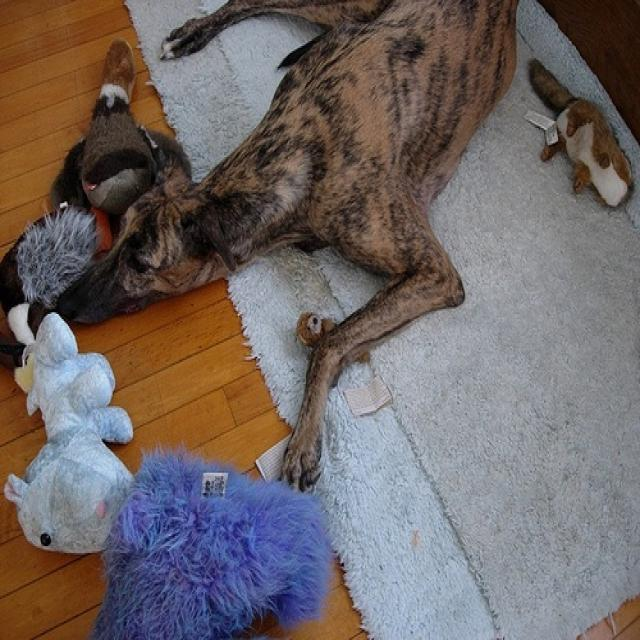dog: (55, 0, 521, 495)
